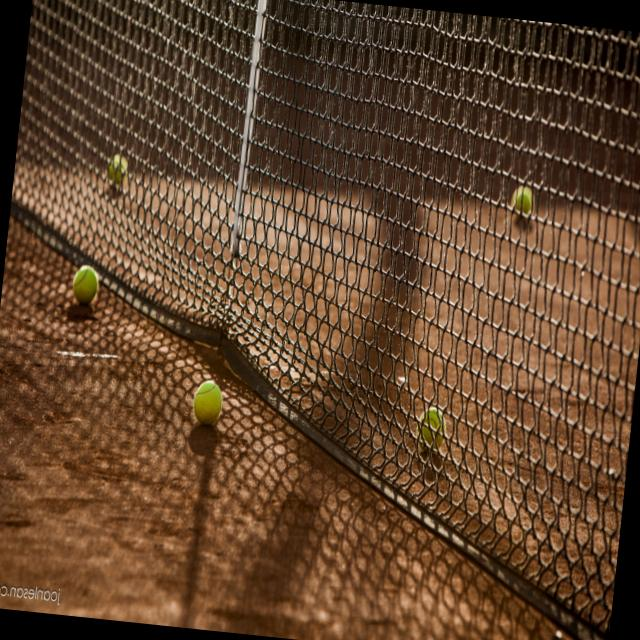Tennis Ball: (191, 376, 225, 426), (414, 406, 448, 454), (71, 264, 102, 308), (508, 181, 538, 224), (105, 152, 128, 185)
